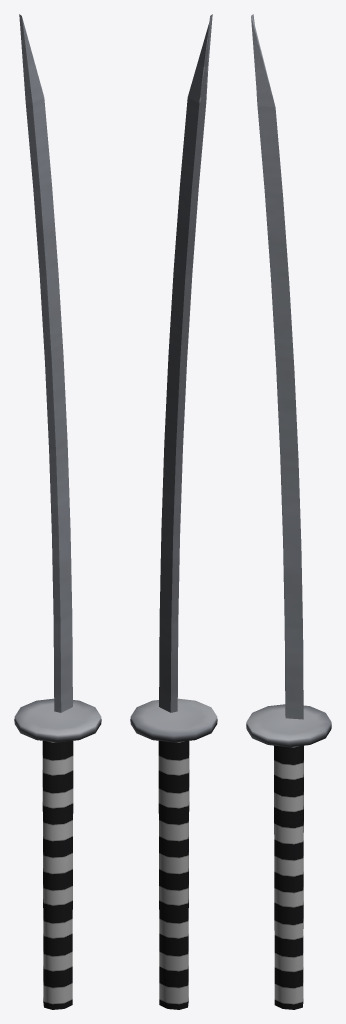
Rendered from katana.glb.
3 views of the same model, side by side, from view 1: azimuth 30°, elevation 25°; view 2: azimuth 150°, elevation 25°; view 3: azimuth 330°, elevation 25° (orthographic).
Visible parts, largest first — view 1: katana; view 2: katana; view 3: katana.
Boxes of the visible parts, x1,y1,x2,y2 form: katana: (14,14,101,1009); katana: (130,14,217,1009); katana: (246,14,331,1009).
Bounding box in the file's own units: 0.0808 × 1.02 × 0.0808.
Materials: 1 (1 with a texture image).
